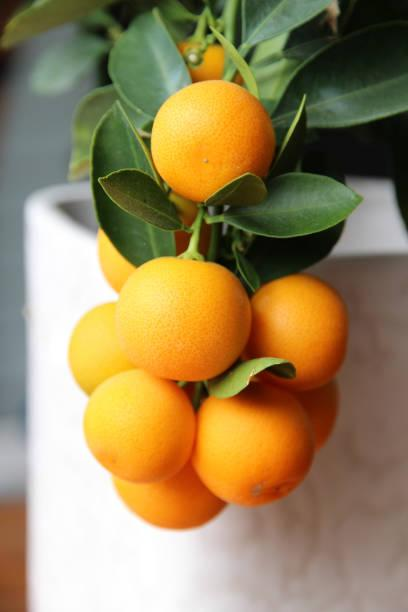orange: (129, 71, 307, 216), (90, 384, 252, 529), (200, 362, 351, 512), (111, 242, 244, 377), (245, 268, 345, 367)
